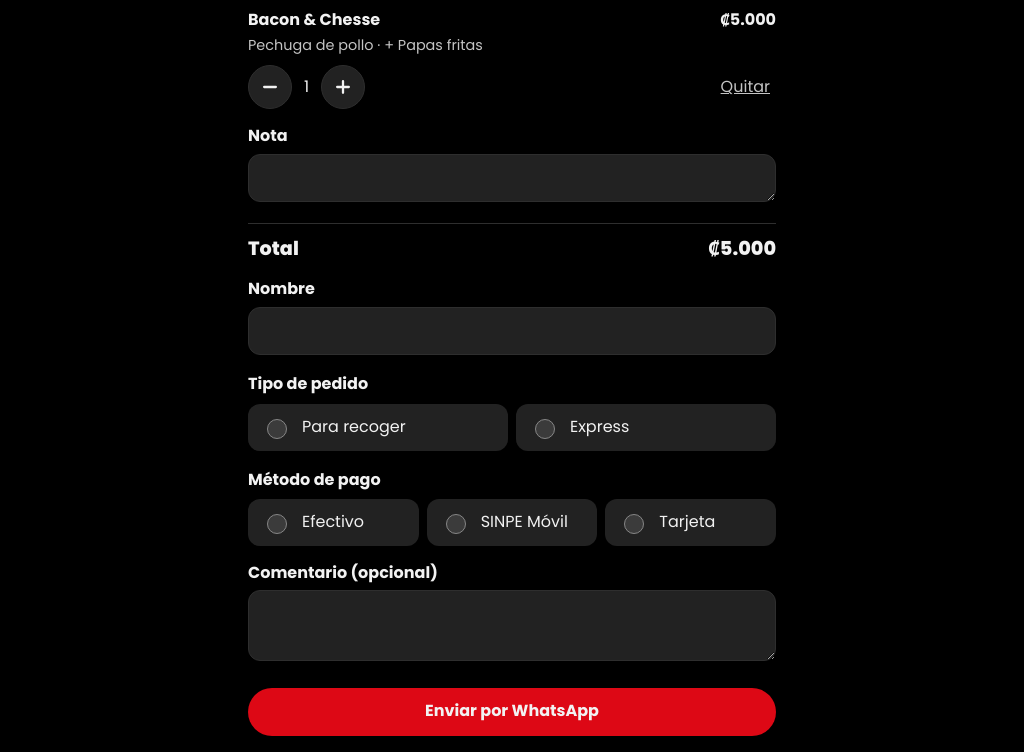
OrderView › marca los campos faltantes y no abre WhatsApp
(page scrolled)
Click the button "Enviar por WhatsApp" at [512, 712], box [248,688,776,736]
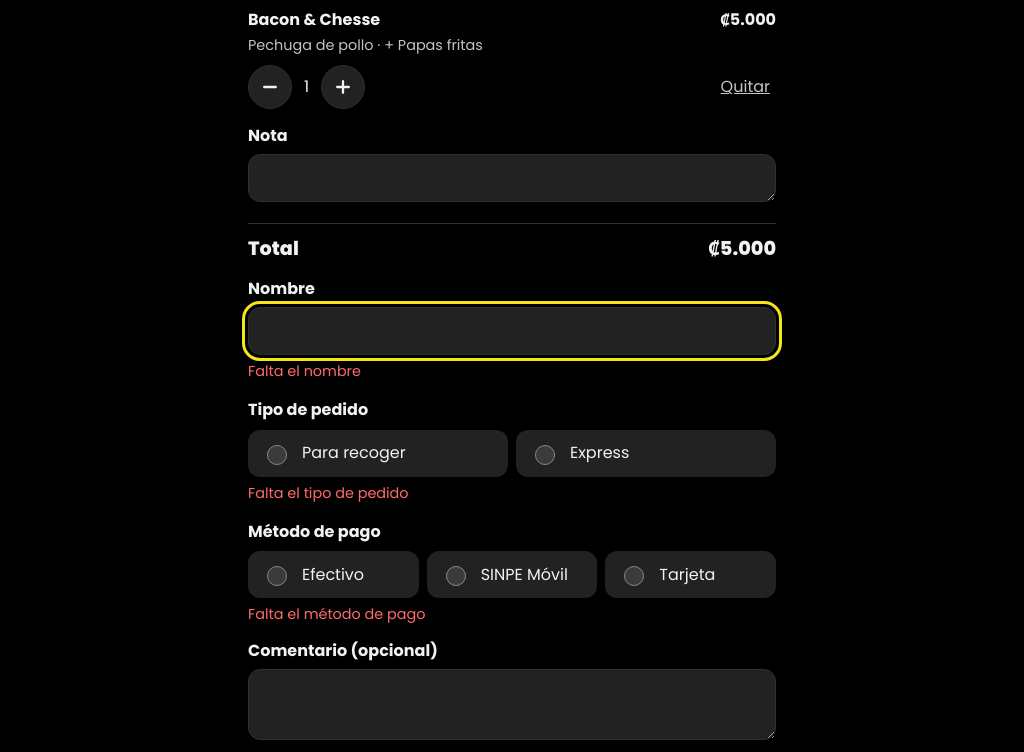
expect the text "Falta el nombre" is shown: met, box [248,361,361,381]
expect the text "Falta el tipo de pedido" is shown: met, box [248,483,408,503]
expect the text "Falta el método de pago" is shown: met, box [248,604,426,624]
